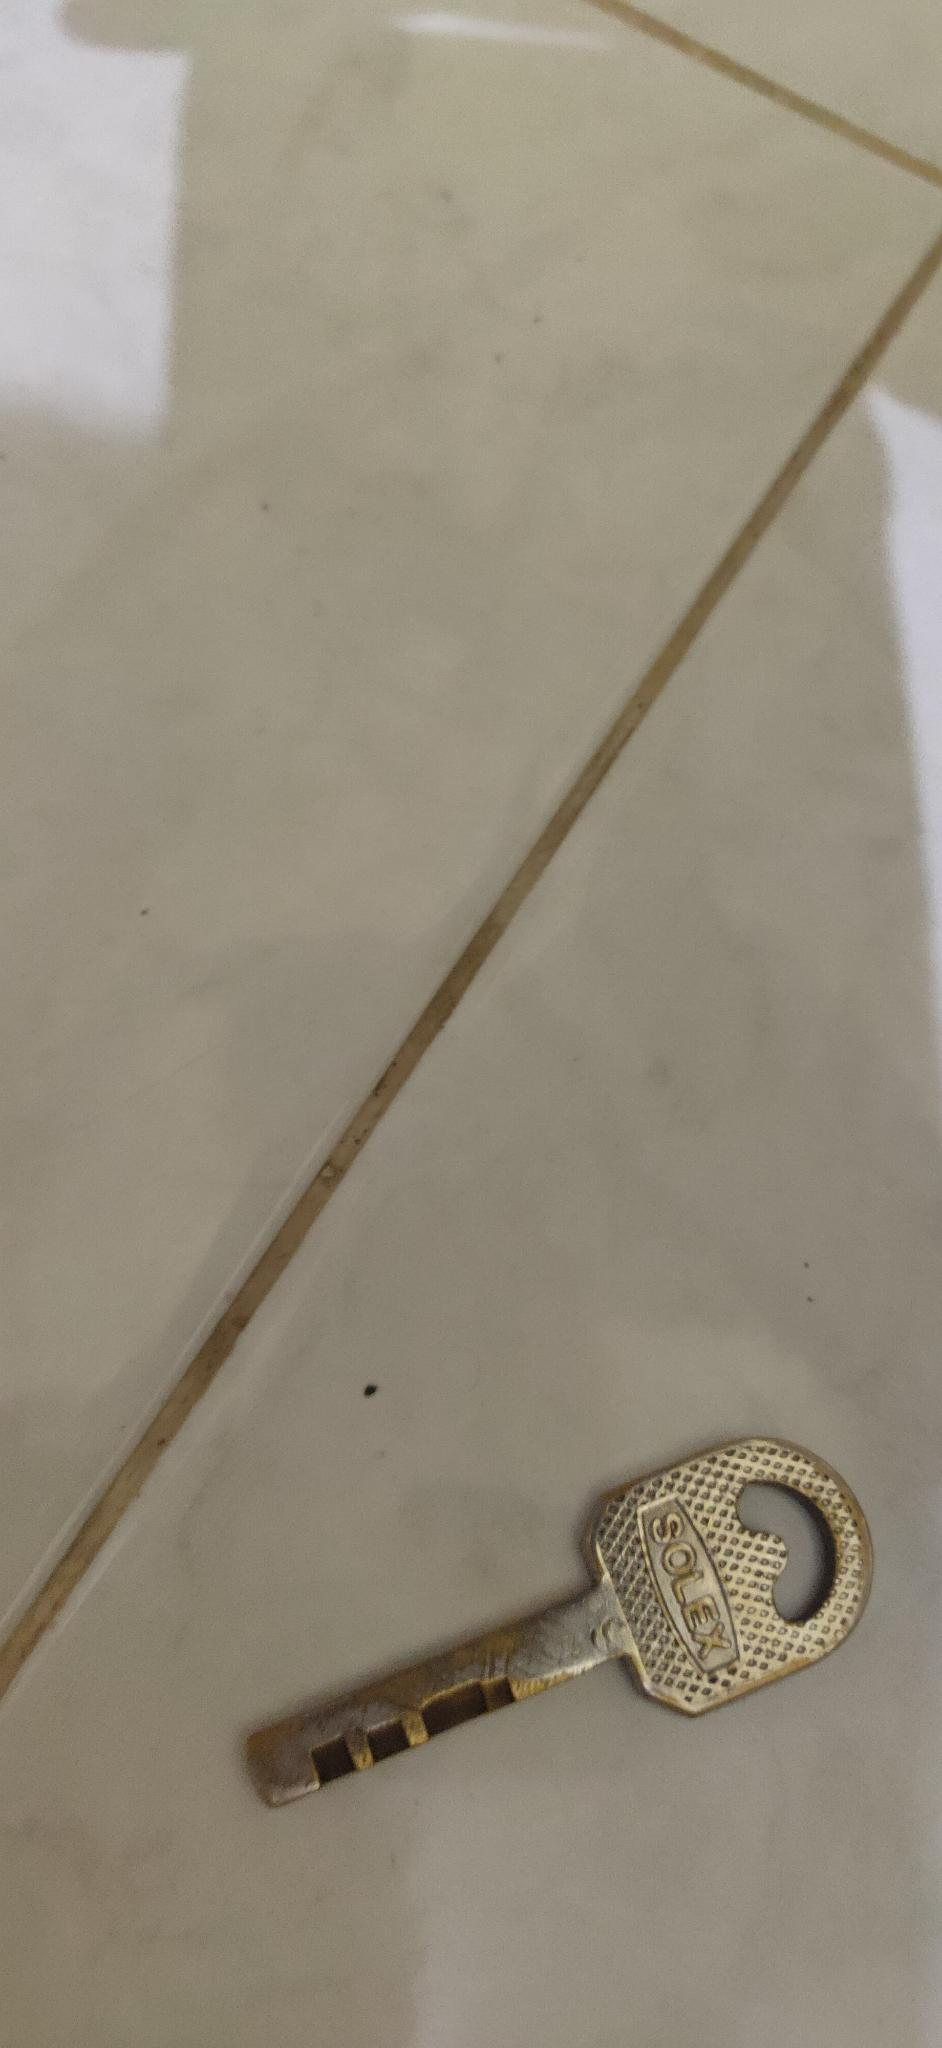keys: (246, 1418, 888, 1822)
